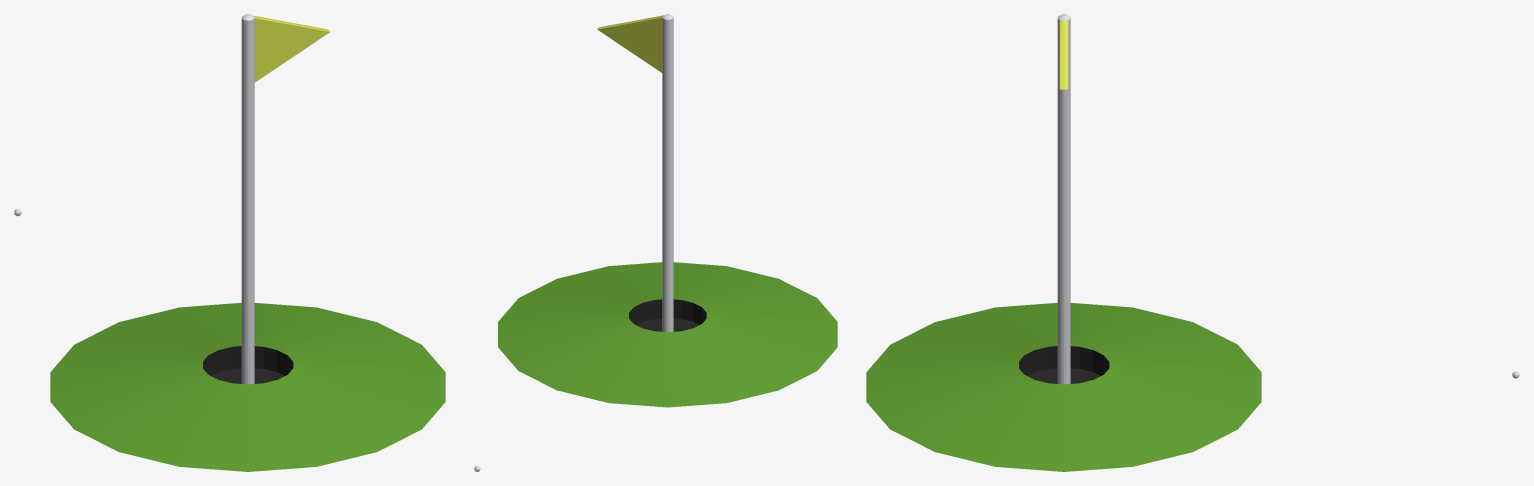
The model's file is Golf Anim.fbx.
3 renders of one model, left to right at view 1: azimuth 30°, elevation 25°; view 2: azimuth 150°, elevation 25°; view 3: azimuth 270°, elevation 25°, orthographic. The views are drawn at different scales.
Parts seen in each view (by area): view 1: Cylinder001, Cylinder002; view 2: Cylinder001, Cylinder002; view 3: Cylinder001, Cylinder002.
Part boxes in pixels (x1,y1,x2,y2): Cylinder001: (50, 302, 445, 471); Cylinder002: (241, 14, 330, 384); Cylinder001: (498, 262, 837, 407); Cylinder002: (597, 14, 673, 332); Cylinder001: (866, 302, 1261, 471); Cylinder002: (1057, 14, 1070, 384).
Size of the model in its own units: 2 by 2.05 by 3.26.
